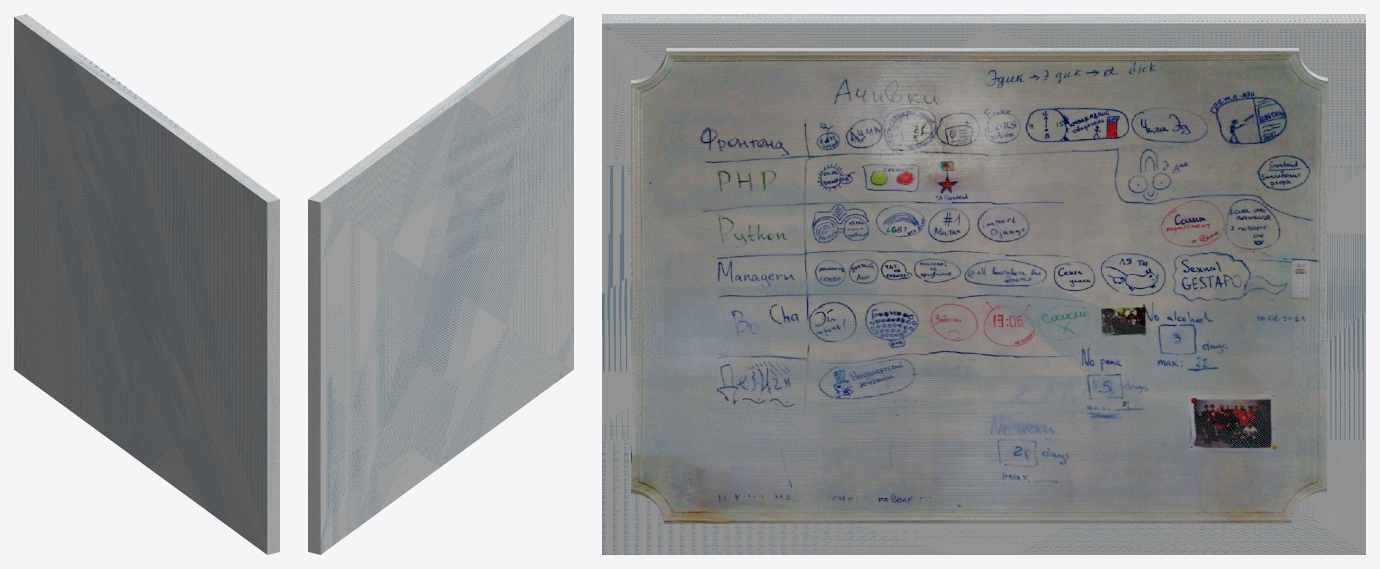
File: f1fb5ffb-79b3-4b6c-a0de-e1f11611c69c.dae
3 views of the same model, side by side, from view 1: azimuth 30°, elevation 25°; view 2: azimuth 150°, elevation 25°; view 3: azimuth 270°, elevation 25° (orthographic). The views are drawn at different scales.
Visible parts, largest first — view 1: Компонент_1; view 2: Компонент_1; view 3: Компонент_1 (×3).
Part boxes in pixels (<box>): Компонент_1: <box>14,14,279,554</box>; Компонент_1: <box>308,14,573,554</box>; Компонент_1 (×3): <box>602,14,1365,554</box>.
Bounding box in the file's own units: 0.6797 × 17.5 × 13.44.
4 materials, 1 textured.
